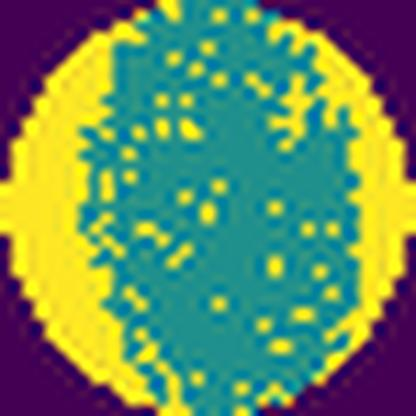Edge-Loc: (0, 0, 193, 415), (271, 0, 416, 384)
